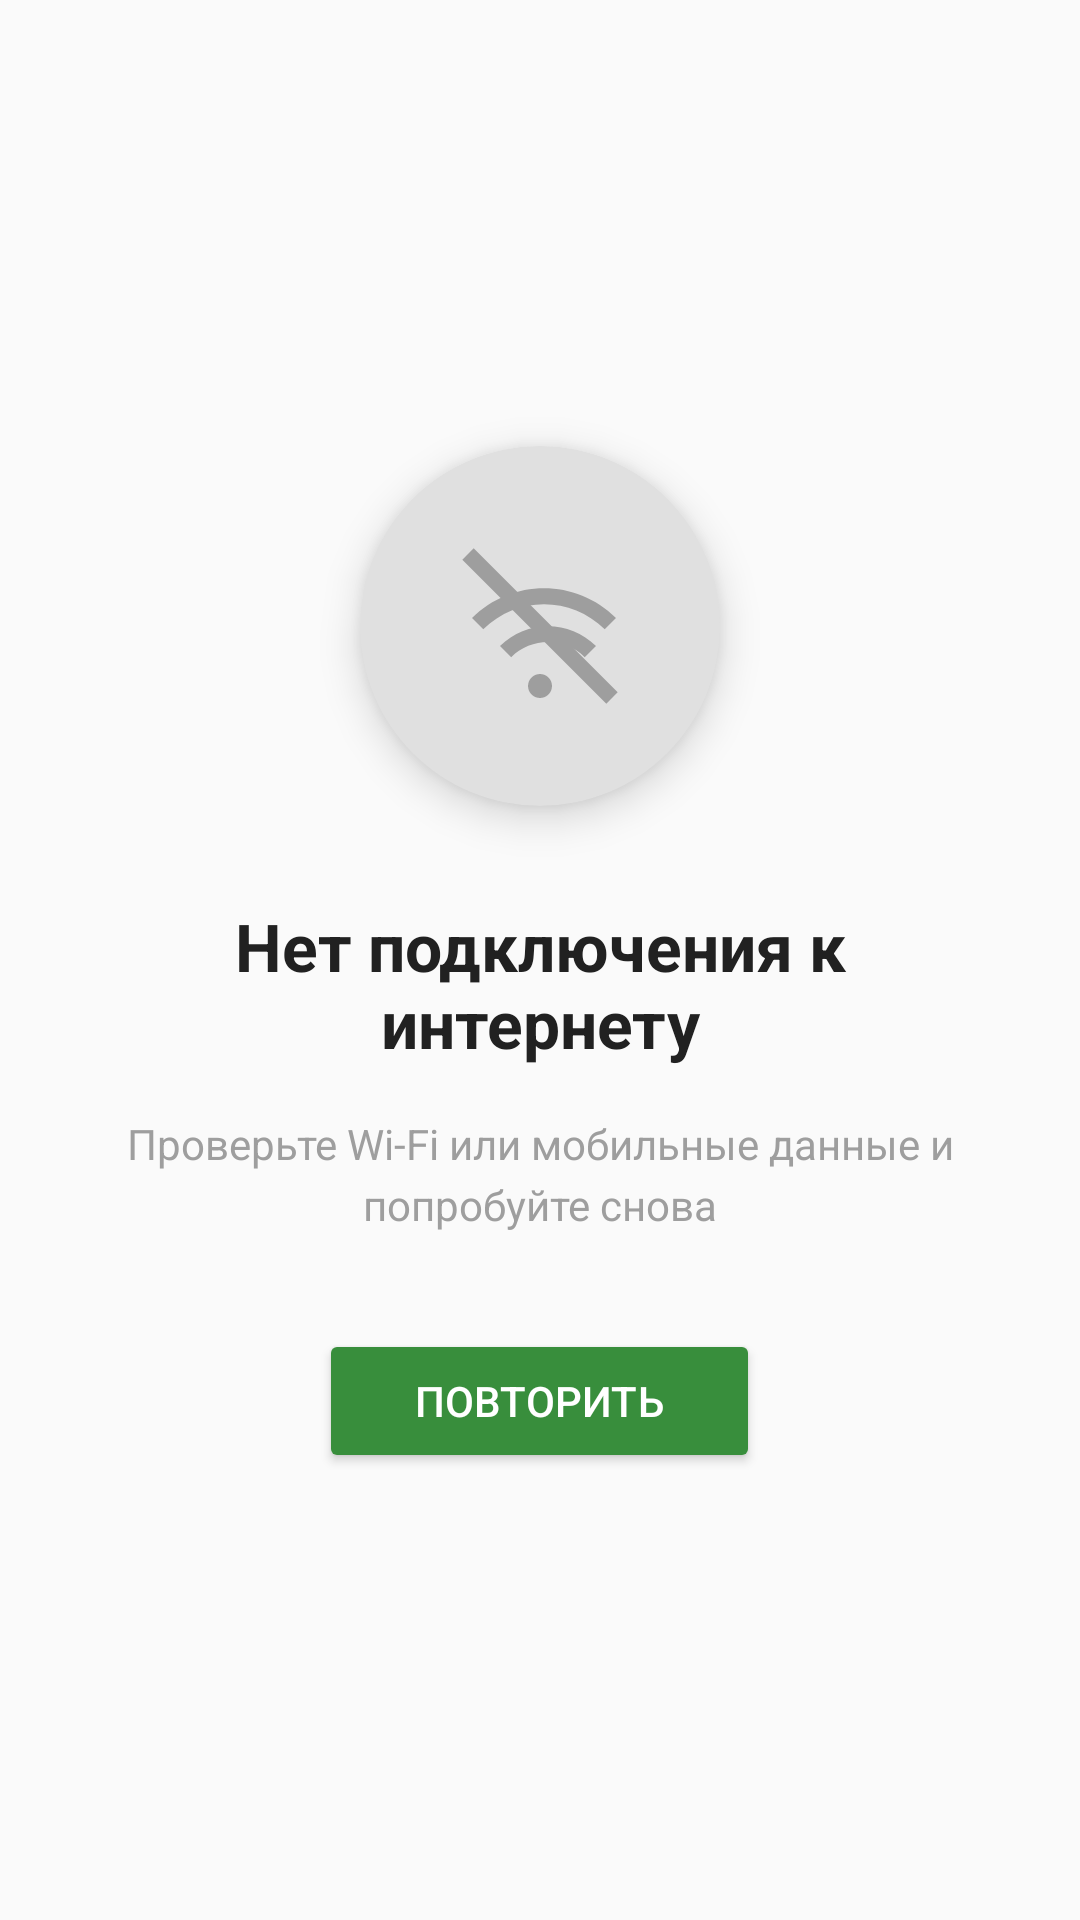

Where to tap for icons on this 1080 × 1920 app screen, as point (x, y):
no wifi: point (540, 626)
